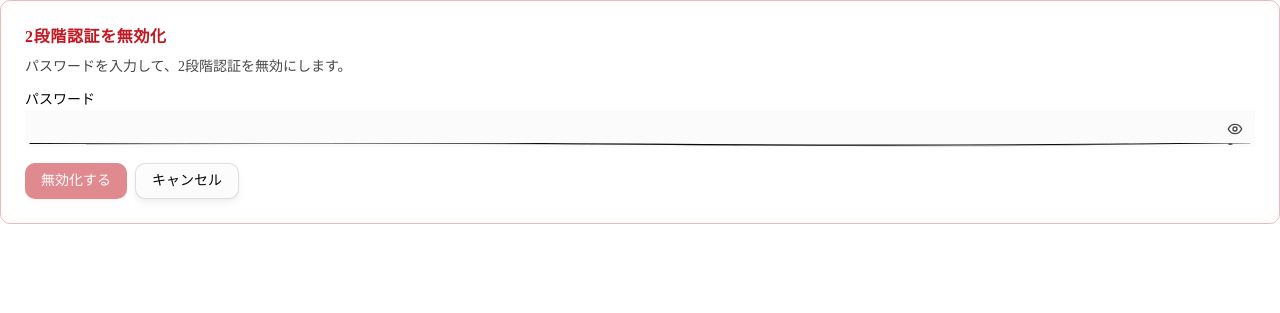
Test: DisableForm › 送信処理 › 無効化失敗時にエラーメッセージを表示する
Type "wrongpass" into the password field labelled "パスワード".
click(640, 129); type("wrongpass")  # box [25,111,1255,147]
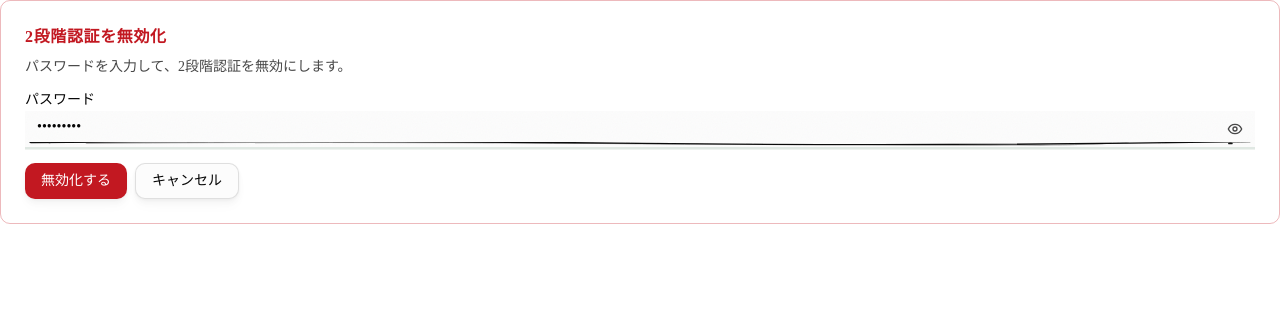
Click the button "無効化する".
click(76, 181)  # box [25,163,127,199]
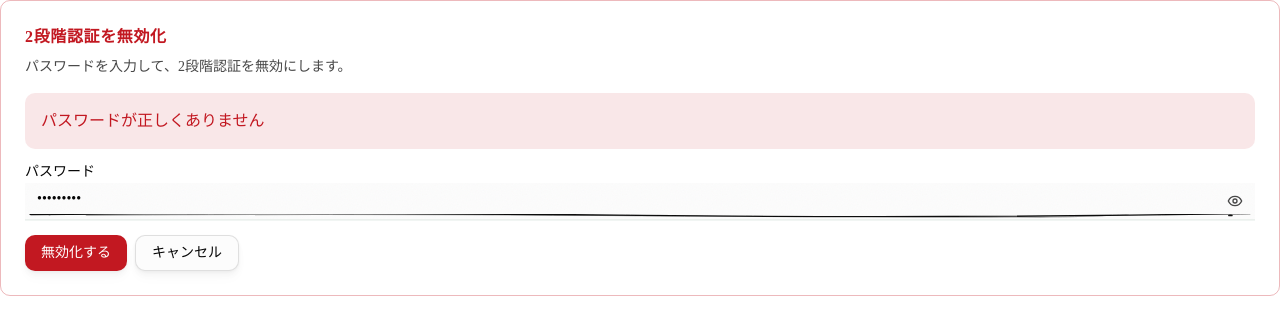
Expected: the text "パスワードが正しくありません" is shown, [25,93,1255,149]
